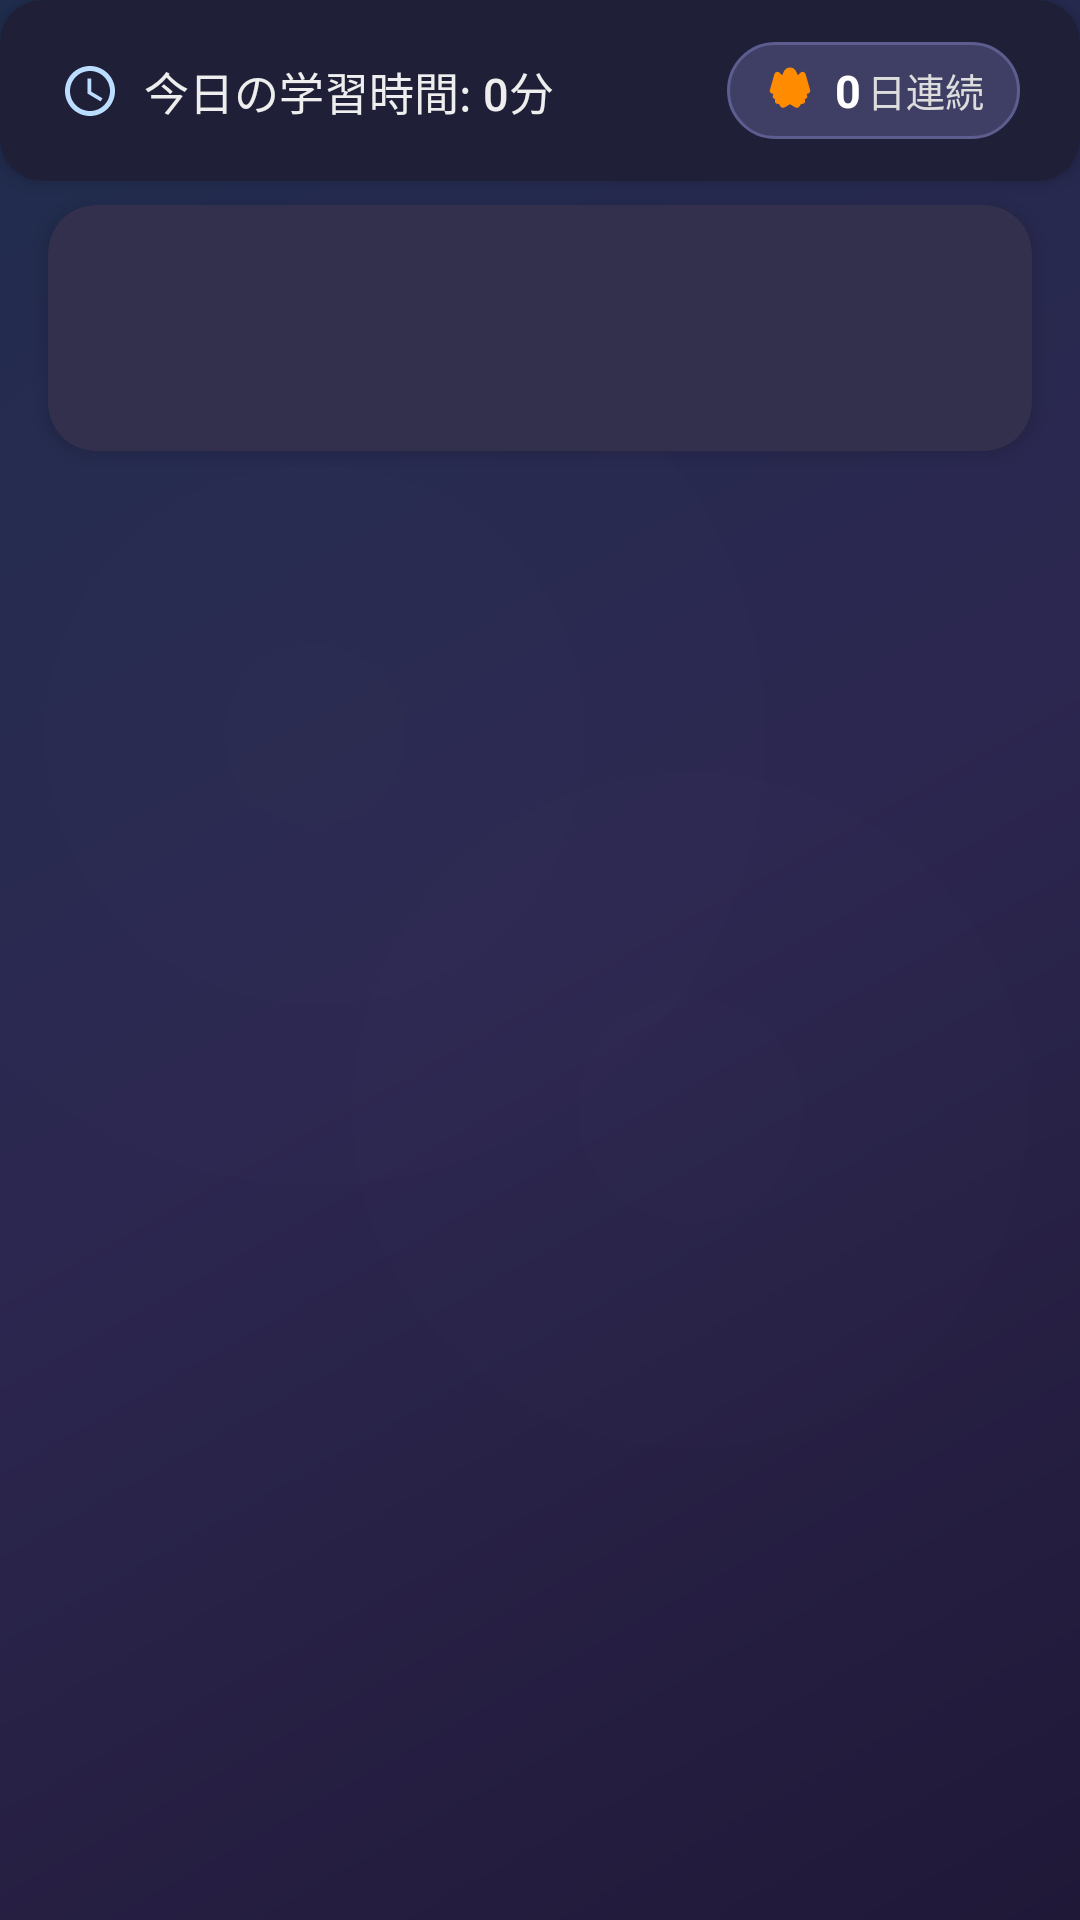

Screen size 1080 x 1920. Icon name, then its box in pixels as (x1, y1, x2, y2):
Clock icon: (65, 66, 115, 116)
Fire streak: (769, 67, 811, 108)
